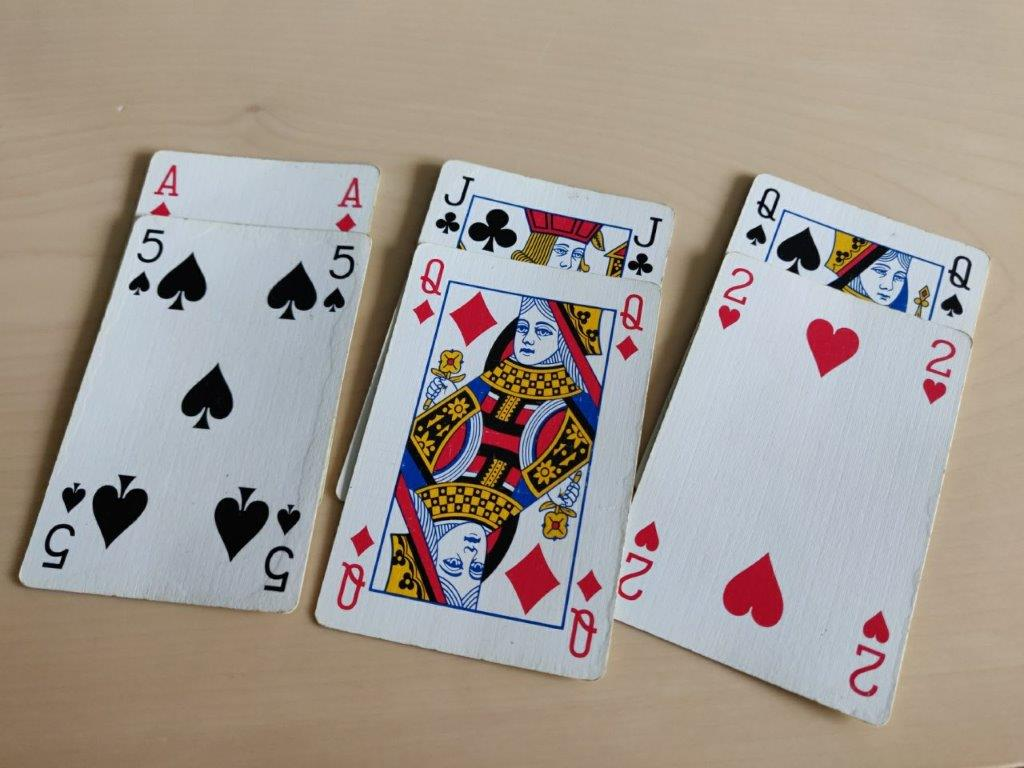2H: (713, 261, 759, 337), (915, 333, 961, 409)
5S: (124, 226, 166, 302), (320, 240, 361, 316)
AD: (146, 153, 185, 220), (332, 170, 371, 237)
JC: (428, 167, 478, 241), (618, 210, 666, 280)
QD: (404, 255, 447, 331), (613, 291, 650, 368)
QS: (743, 182, 785, 252), (934, 253, 976, 323)
